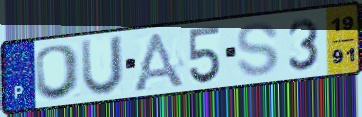3: (286, 16, 321, 72)
5: (186, 24, 221, 85)
A: (129, 30, 188, 92)
O: (31, 43, 83, 102)
S: (234, 21, 281, 79)
U: (78, 33, 126, 99)
